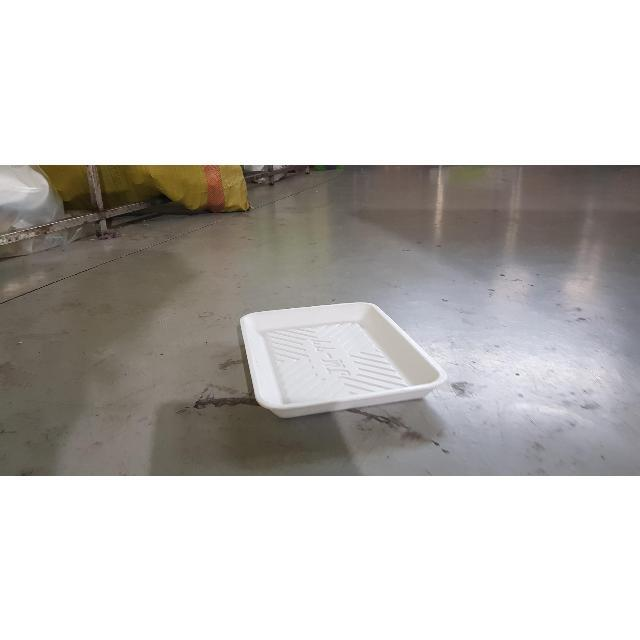Recipiente plastico: (240, 302, 446, 417)
